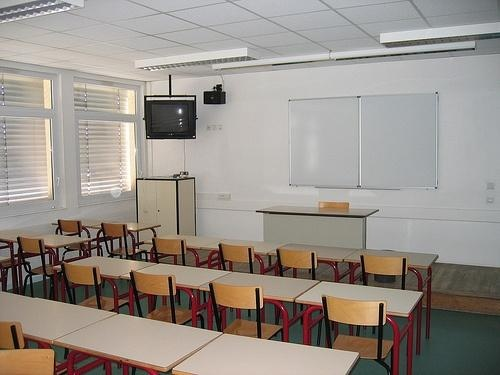chair: (322, 294, 395, 375), (210, 281, 285, 342), (129, 271, 206, 330), (62, 262, 132, 315), (16, 235, 63, 301), (101, 223, 150, 262), (54, 220, 103, 258), (361, 255, 409, 290), (1, 347, 58, 375), (276, 248, 318, 280), (219, 244, 255, 275), (152, 238, 188, 268), (1, 321, 27, 351), (316, 201, 351, 210)
tvmonitor: (144, 100, 198, 141)
